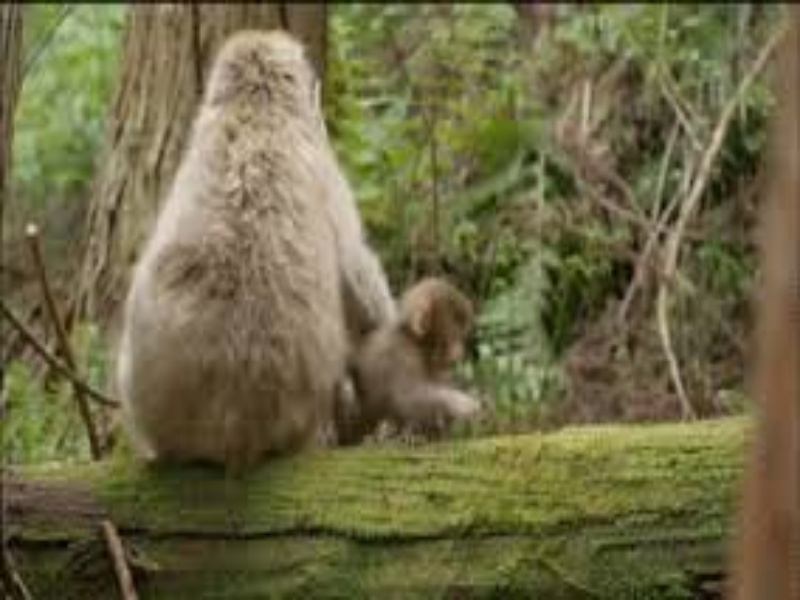monkey: (110, 25, 499, 477)
